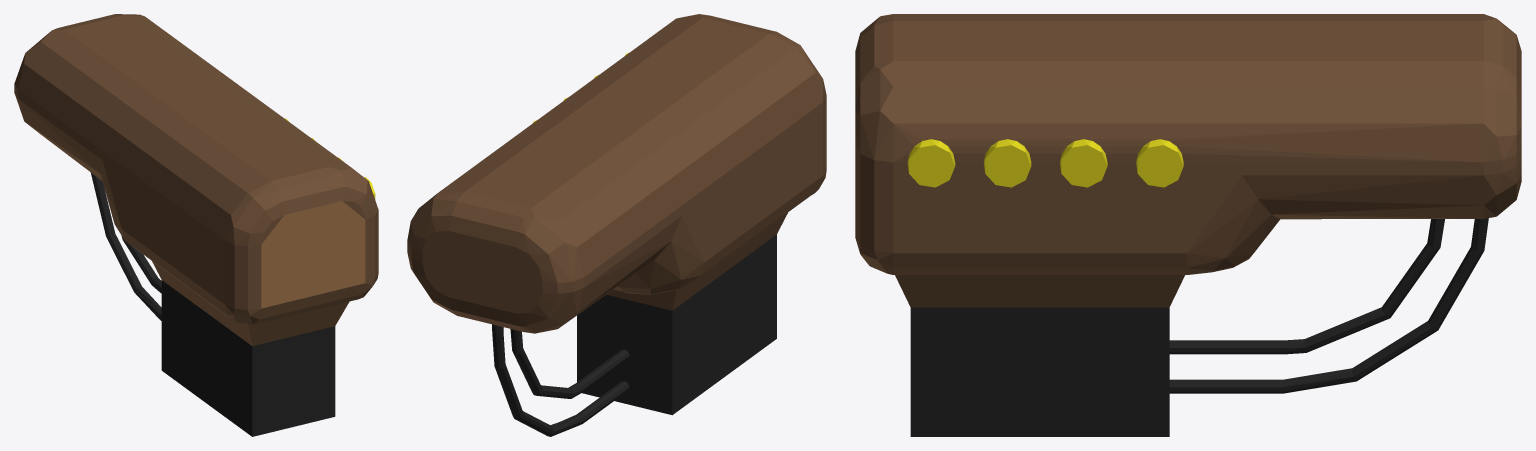
Rendered from Weapon-Electric-Body.fbx.
3 views of the same model, side by side, from view 1: azimuth 30°, elevation 25°; view 2: azimuth 150°, elevation 25°; view 3: azimuth 270°, elevation 25° (orthographic). The views are drawn at different scales.
Parts seen in each view (by area): view 1: Weapon-Electric-Body; view 2: Weapon-Electric-Body; view 3: Weapon-Electric-Body.
Part boxes in pixels (x1=…): Weapon-Electric-Body: x1=14, y1=14, x2=378, y2=436; Weapon-Electric-Body: x1=407, y1=14, x2=826, y2=436; Weapon-Electric-Body: x1=855, y1=14, x2=1521, y2=436.
Bounding box in the file's own units: 135 × 213 × 350.
